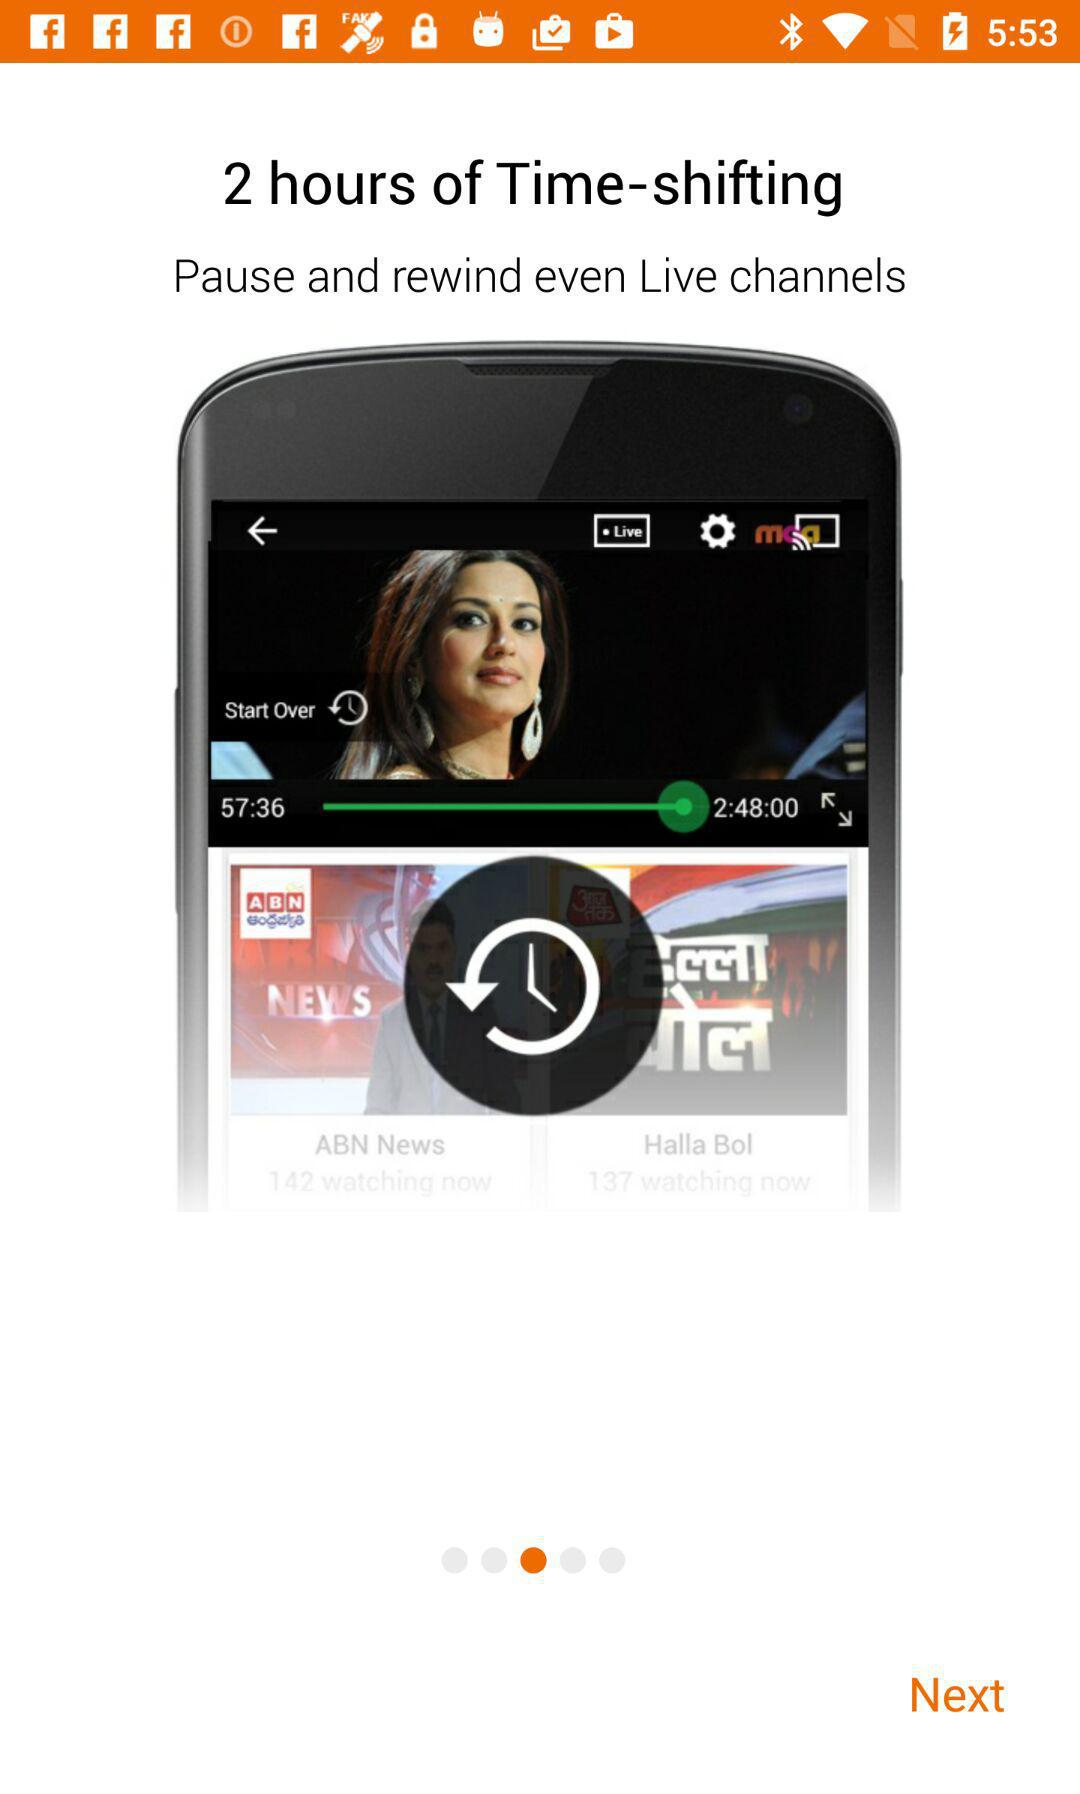Image: (174, 340, 904, 1214)
PageIndicator: (439, 1545, 626, 1576)
Text: (224, 159, 842, 219), (176, 256, 907, 295), (911, 1677, 1004, 1713)
UpperTaskBar: (1, 1, 1080, 64)
